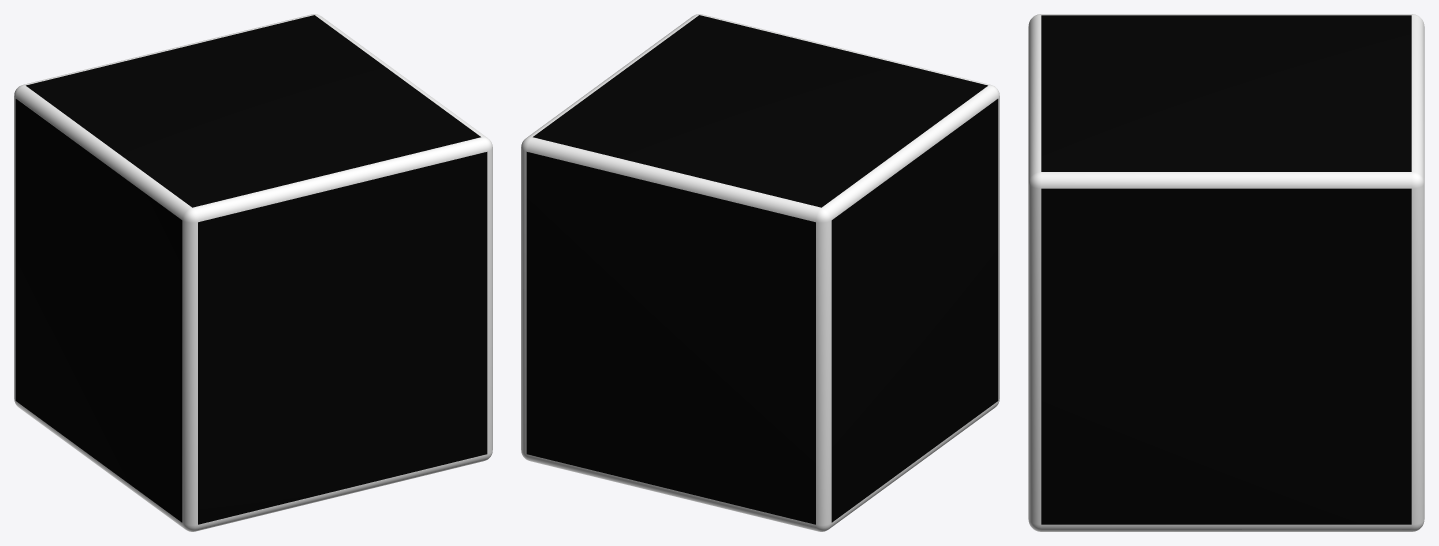
File: BLACK-CUBE.glb
The picture shows the model from 3 angles, left to right: view 1: azimuth 30°, elevation 25°; view 2: azimuth 150°, elevation 25°; view 3: azimuth 270°, elevation 25°; orthographic projection. The views are drawn at different scales.
Parts seen in each view (by area): view 1: FLAT; view 2: FLAT; view 3: FLAT.
Part boxes in pixels (box(x1,y1,x2,y2)): FLAT: box(14, 14, 492, 531); FLAT: box(521, 14, 999, 531); FLAT: box(1028, 14, 1424, 531).
Size of the model in its own units: 0.8903 by 0.8903 by 0.8903.
Materials: 1 (1 with a texture image).
